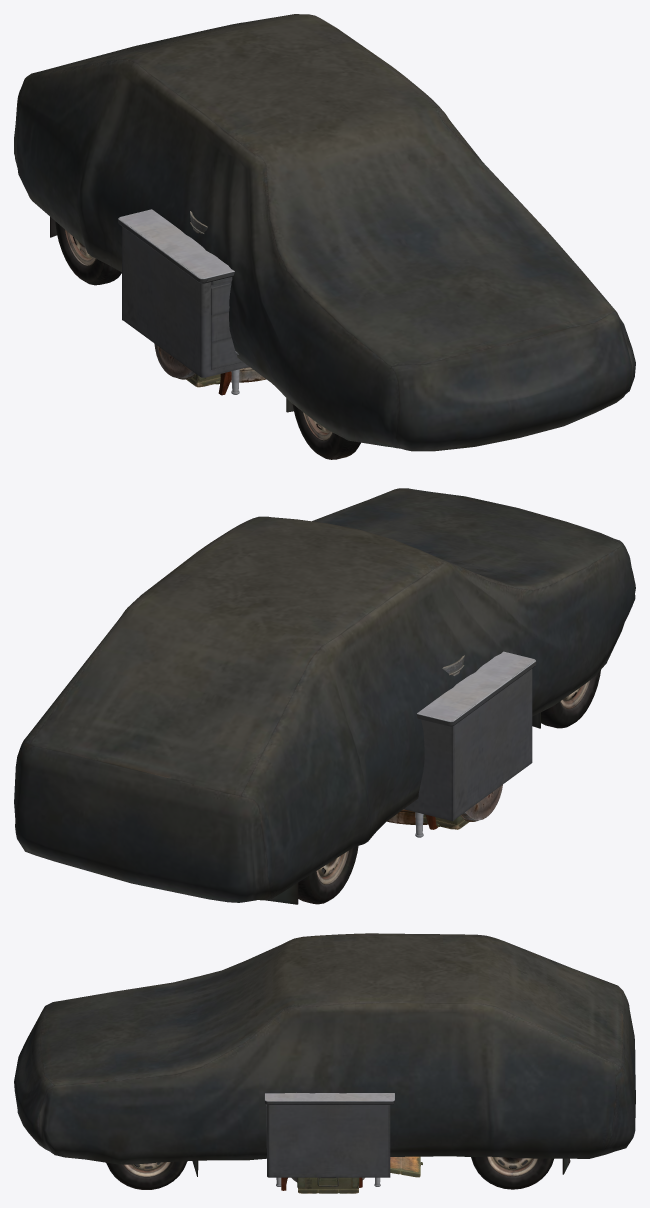
Rendered from arredi.glb.
The picture shows the model from 3 angles, top to bottom: view 1: azimuth 30°, elevation 25°; view 2: azimuth 150°, elevation 25°; view 3: azimuth 270°, elevation 25°; orthographic projection. The views are drawn at different scales.
Visible parts, largest first — view 1: covered_car, metal_office_desk, covered_car_wheel_03, covered_car_wheel_02, metal_office_desk_drawer_06, metal_trash_can_rust_lid; view 2: covered_car, metal_office_desk, covered_car_wheel_03, covered_car_wheel_02, metal_trash_can_rust_lid; view 3: covered_car, metal_office_desk, covered_car_wheel_04, covered_car_wheel_01, old_military_crate_b, old_military_crate_lid_b.
Boxes of the visible parts, bbox=[...] form: covered_car: bbox=[14, 14, 635, 451]; metal_office_desk: bbox=[118, 209, 249, 394]; covered_car_wheel_03: bbox=[55, 221, 121, 285]; covered_car_wheel_02: bbox=[292, 404, 360, 459]; metal_office_desk_drawer_06: bbox=[211, 338, 242, 369]; metal_trash_can_rust_lid: bbox=[154, 343, 196, 379]; covered_car: bbox=[14, 488, 635, 904]; metal_office_desk: bbox=[404, 651, 536, 837]; covered_car_wheel_03: bbox=[298, 846, 358, 904]; covered_car_wheel_02: bbox=[541, 670, 600, 728]; metal_trash_can_rust_lid: bbox=[460, 784, 502, 821]; covered_car: bbox=[14, 933, 635, 1176]; metal_office_desk: bbox=[264, 1093, 394, 1186]; covered_car_wheel_04: bbox=[471, 1156, 553, 1189]; covered_car_wheel_01: bbox=[106, 1161, 187, 1189]; old_military_crate_b: bbox=[297, 1177, 359, 1193]; old_military_crate_lid_b: bbox=[390, 1156, 422, 1177].
Size of the model in its own units: 2 by 1.42 by 4.38.
Materials: 12 (12 with a texture image).
